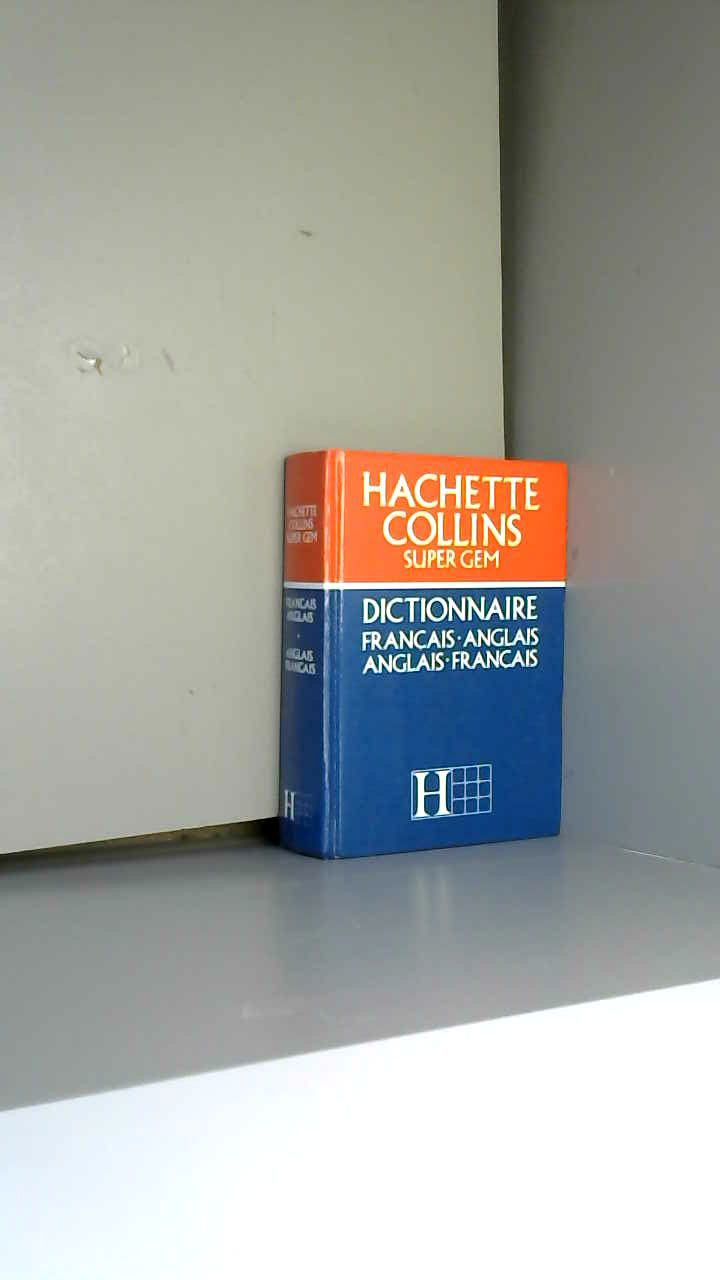book: (250, 416, 596, 890)
